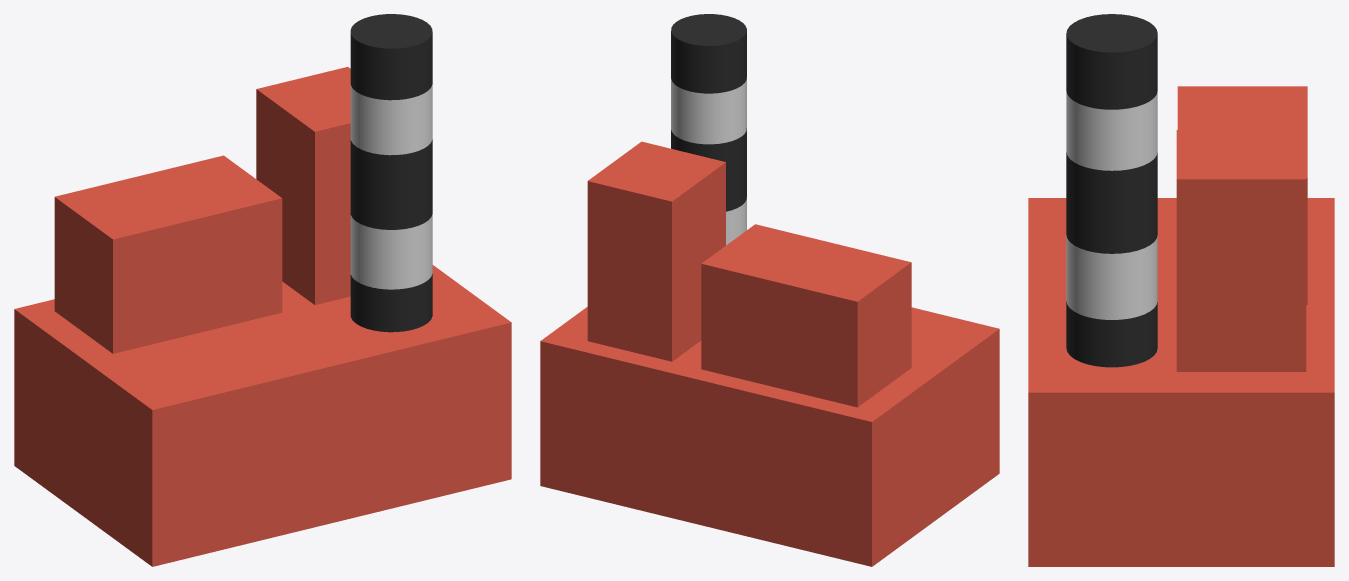
Rendered from tile_factory.fbx.
The picture shows the model from 3 angles, left to right: view 1: azimuth 30°, elevation 25°; view 2: azimuth 150°, elevation 25°; view 3: azimuth 270°, elevation 25°; orthographic projection. The views are drawn at different scales.
Parts seen in each view (by area): view 1: Cube, Cube.002, Cylinder, Cube.001; view 2: Cube, Cube.002, Cube.001, Cylinder; view 3: Cube, Cylinder, Cube.001, Cube.002.
Boxes of the visible parts, box(x1,y1,x2,y2) form: Cube: box(14, 265, 511, 566); Cube.002: box(54, 155, 282, 353); Cylinder: box(350, 14, 432, 332); Cube.001: box(256, 67, 350, 304); Cube: box(540, 307, 999, 566); Cube.002: box(701, 224, 911, 407); Cube.001: box(587, 141, 725, 361); Cylinder: box(671, 14, 746, 245); Cube: box(1028, 198, 1334, 566); Cylinder: box(1066, 14, 1157, 367); Cube.001: box(1176, 130, 1306, 371); Cube.002: box(1177, 86, 1307, 304).
Size of the model in its own units: 479 by 561 by 319.
